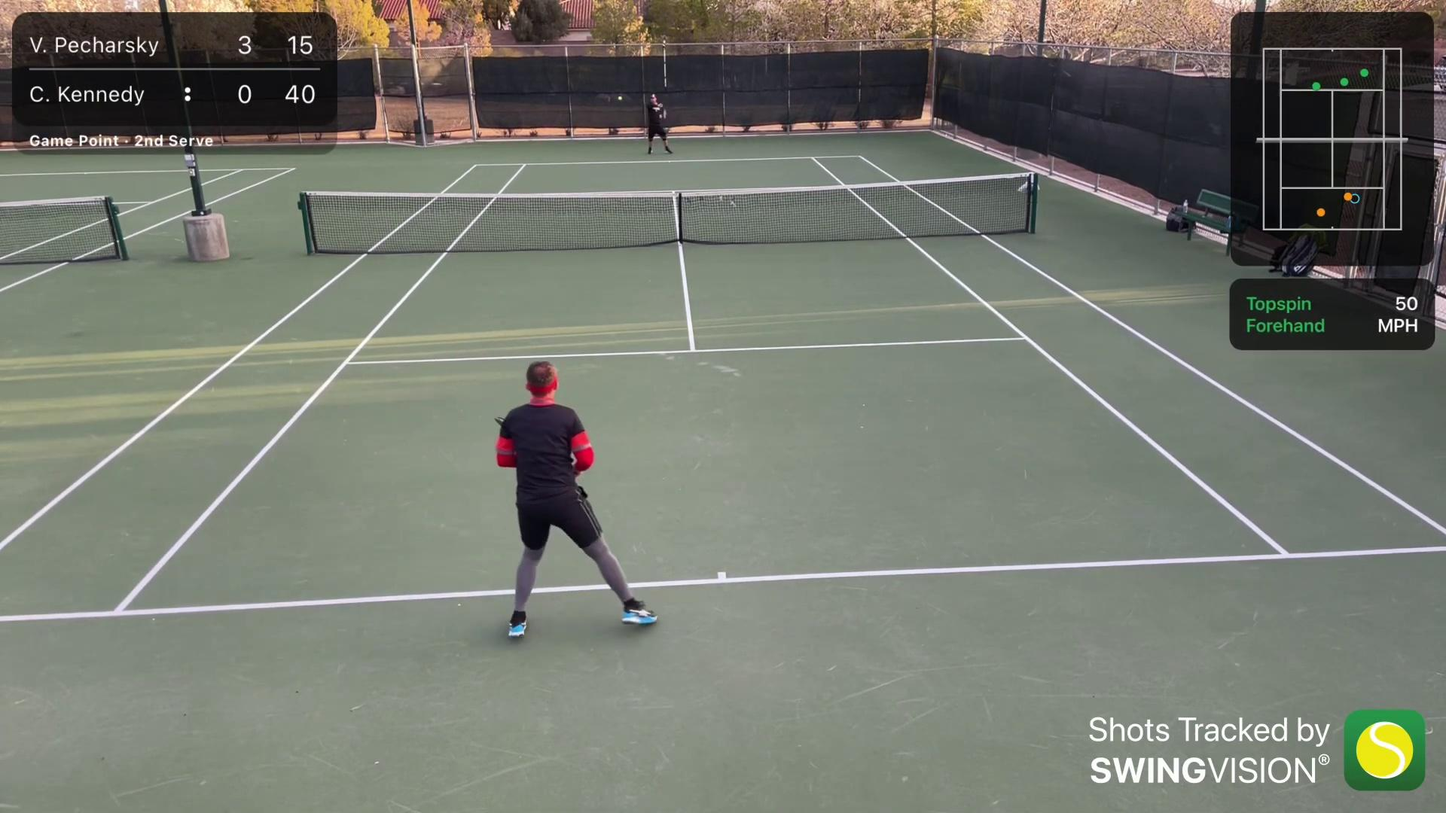ball: (617, 96, 624, 100)
